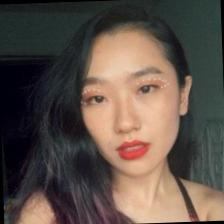Normal: (84, 36, 176, 173)
